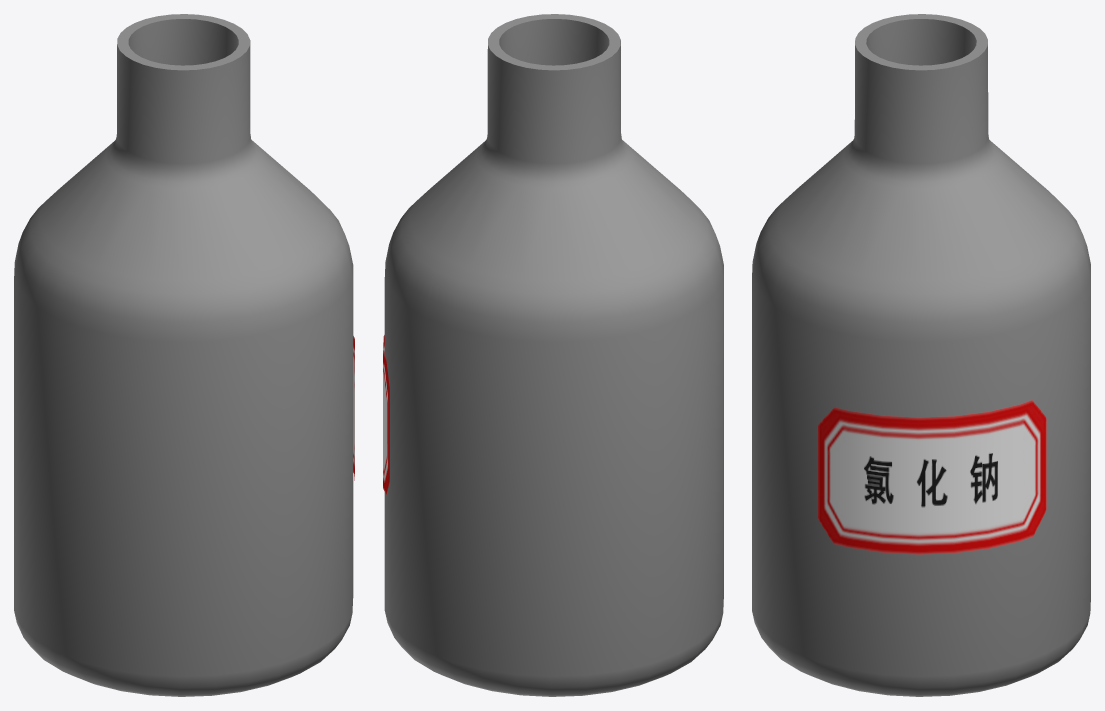
Rendered from SM_氯化钠.fbx.
The picture shows the model from 3 angles, left to right: view 1: azimuth 30°, elevation 25°; view 2: azimuth 150°, elevation 25°; view 3: azimuth 270°, elevation 25°; orthographic projection.
Visible parts, largest first — view 1: SM_氯化钠; view 2: SM_氯化钠; view 3: SM_氯化钠.
Part boxes in pixels (left/top/right/bottom): SM_氯化钠: left=14, top=14, right=354, bottom=696; SM_氯化钠: left=383, top=14, right=723, bottom=696; SM_氯化钠: left=752, top=14, right=1090, bottom=696.
Bounding box in the file's own units: 59.77 × 115 × 59.24.
